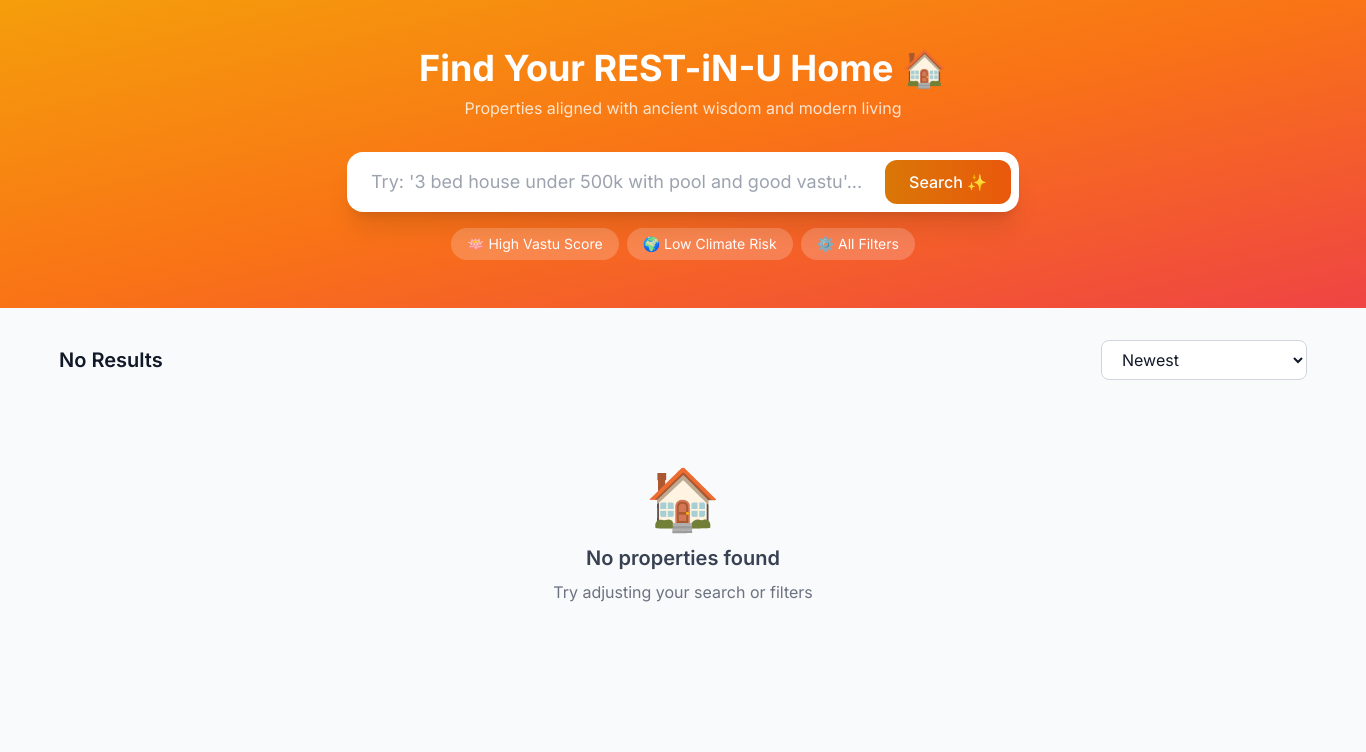
SearchPage › Filters panel › should close filters panel after applying filters
What coordinates should you click on to do the following:
click the button "⚙️ All Filters"
I would click on:
 (858, 244)
Its box is [801, 228, 915, 260].
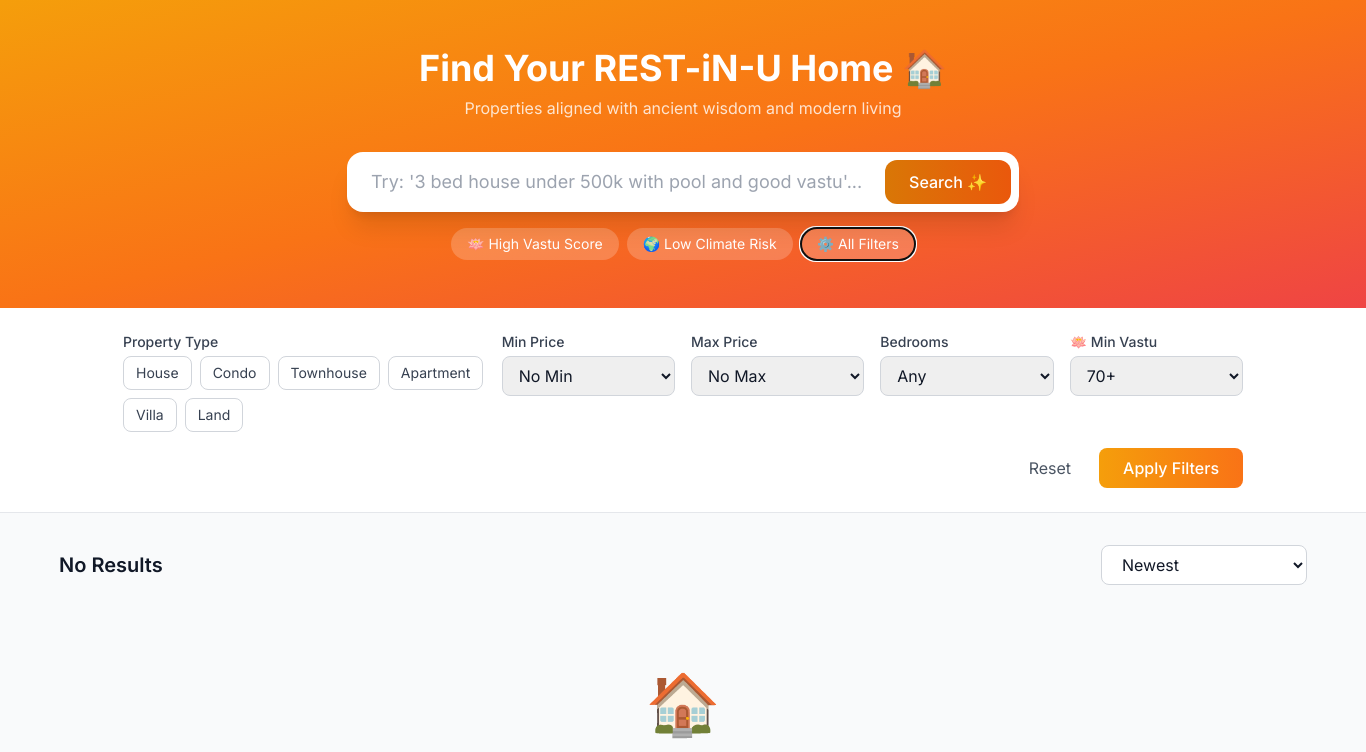
Expected: the text "Property Type" is shown, [123, 333, 218, 350]
Apply filters
What coordinates should you click on to do the following:
click the button "Apply Filters"
I would click on:
 (1171, 468)
Its box is [1099, 448, 1243, 488].
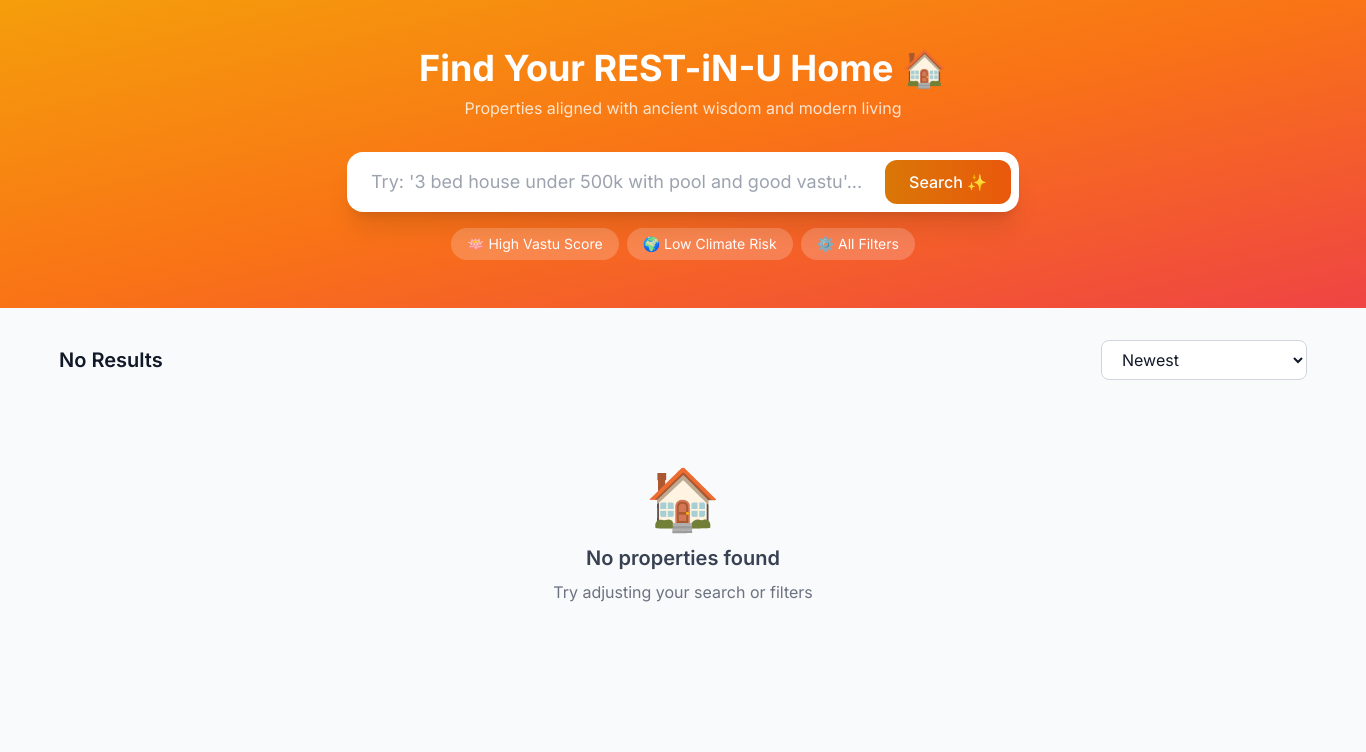
Expected: the text "Property Type" is gone
